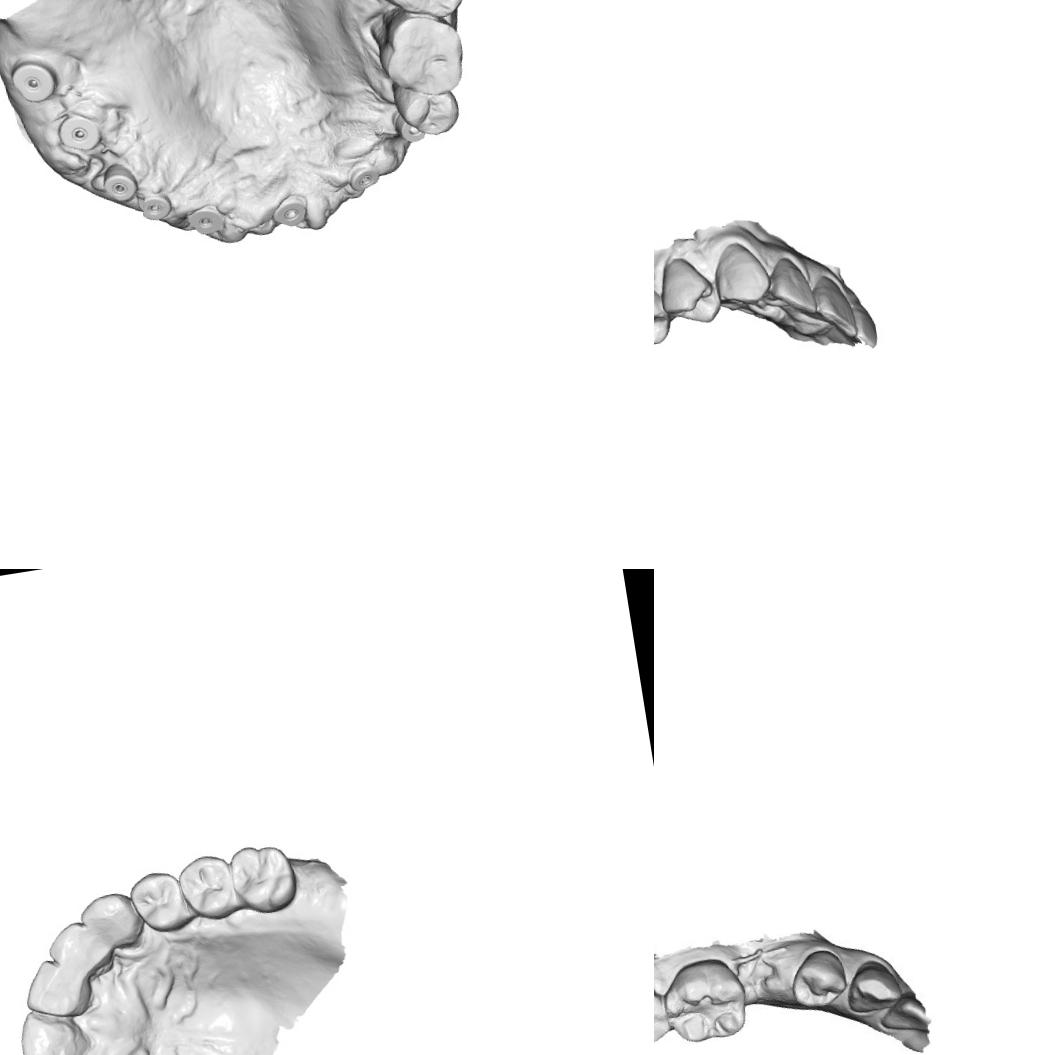canine: (708, 237, 775, 310), (76, 888, 147, 956), (839, 957, 907, 1017)
implant: (8, 55, 62, 107), (54, 109, 105, 154), (99, 160, 141, 206), (268, 191, 310, 231), (184, 200, 227, 238), (138, 190, 174, 224), (344, 162, 382, 194)
incisor: (19, 954, 93, 1024), (44, 917, 109, 986), (14, 1002, 93, 1055), (766, 252, 820, 320), (810, 270, 860, 343), (876, 988, 930, 1034)
molar: (369, 0, 471, 104), (658, 956, 750, 1053), (226, 838, 302, 918), (363, 0, 470, 28)
premolar: (172, 850, 240, 926), (390, 72, 463, 142), (127, 867, 192, 938), (787, 950, 854, 1017), (654, 252, 718, 316), (654, 278, 674, 349)
